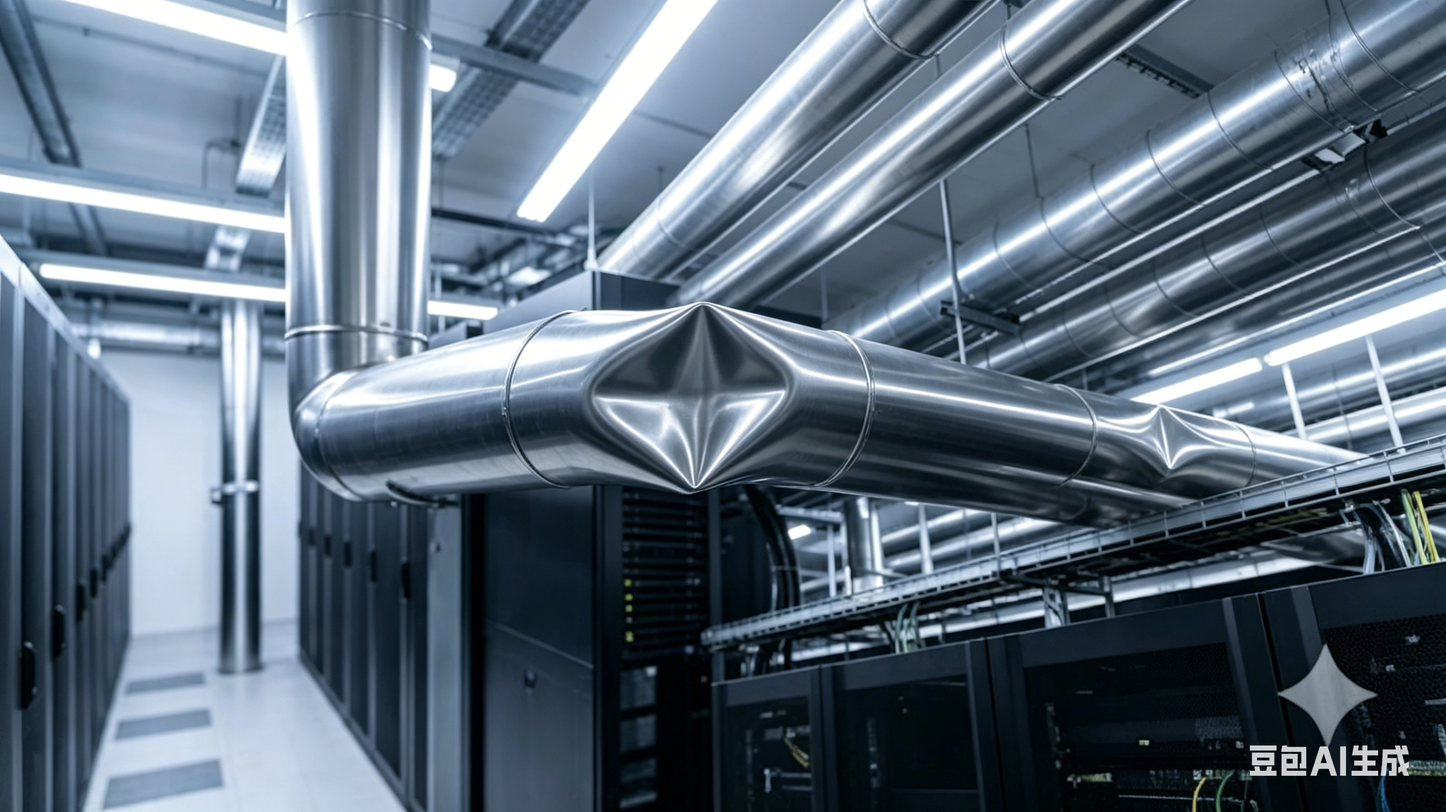Leakage: (573, 312, 799, 493), (1097, 398, 1242, 496)
